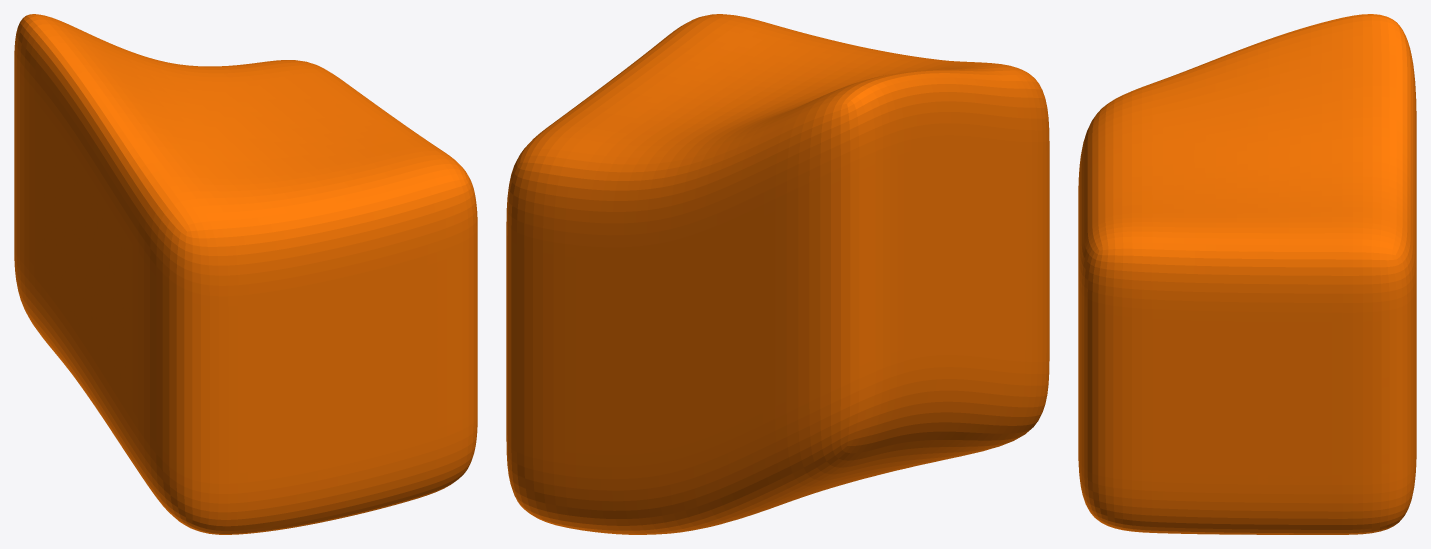
The picture shows the model from 3 angles, left to right: view 1: azimuth 30°, elevation 25°; view 2: azimuth 150°, elevation 25°; view 3: azimuth 270°, elevation 25°; orthographic projection. The views are drawn at different scales.
Parts seen in each view (by area): view 1: smooth_1_base.021; view 2: smooth_1_base.021; view 3: smooth_1_base.021.
Part boxes in pixels (left/top/right/bottom): smooth_1_base.021: left=14, top=14, right=477, bottom=534; smooth_1_base.021: left=506, top=14, right=1049, bottom=534; smooth_1_base.021: left=1078, top=14, right=1416, bottom=534.
Size of the model in its own units: 60 by 78.46 by 60.
